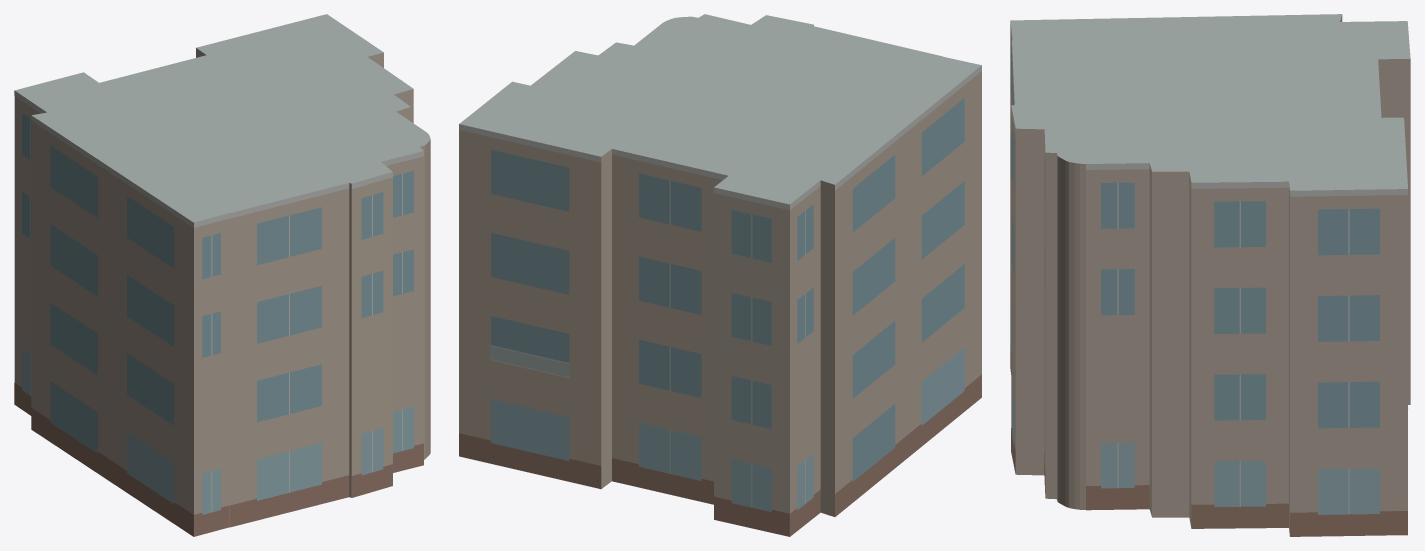
The model's file is survey-upis-32838262.glb.
3 renders of one model, left to right at view 1: azimuth 30°, elevation 25°; view 2: azimuth 150°, elevation 25°; view 3: azimuth 270°, elevation 25°, orthographic. The views are drawn at different scales.
Parts seen in each view (by area): view 1: survey-upis-32838262.tmp; view 2: survey-upis-32838262.tmp; view 3: survey-upis-32838262.tmp.
Part boxes in pixels (x1,y1,x2,y2): survey-upis-32838262.tmp: [14, 14, 430, 536]; survey-upis-32838262.tmp: [459, 14, 981, 536]; survey-upis-32838262.tmp: [1010, 14, 1410, 536].
Size of the model in its own units: 15.46 by 14.1 by 14.79.
